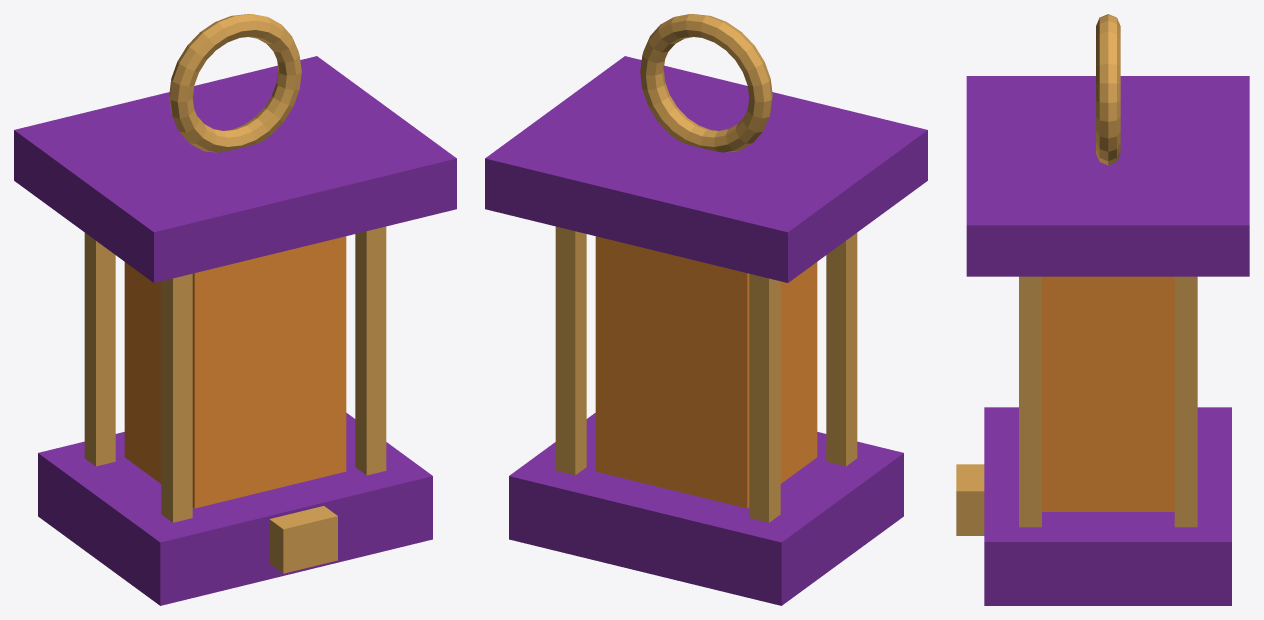
Rendered from amethyst.glb.
3 views of the same model, side by side, from view 1: azimuth 30°, elevation 25°; view 2: azimuth 150°, elevation 25°; view 3: azimuth 270°, elevation 25° (orthographic).
Parts seen in each view (by area): view 1: Canopy, Amber core, Lantern base, Torus, Brass frame.002, Brass frame, Brass frame.001, Front clasp; view 2: Canopy, Amber core, Lantern base, Torus, Brass frame.003, Brass frame.001, Brass frame; view 3: Canopy, Amber core, Lantern base, Brass frame.003, Brass frame.002, Torus, Front clasp.
Boxes of the visible parts, x1,y1,x2,y2 form: Canopy: [14, 56, 456, 282]; Amber core: [124, 236, 346, 508]; Lantern base: [38, 413, 432, 605]; Torus: [169, 14, 301, 152]; Brass frame.002: [355, 226, 386, 475]; Brass frame: [161, 273, 192, 522]; Brass frame.001: [84, 233, 115, 466]; Front clasp: [269, 506, 337, 573]; Canopy: [485, 56, 927, 282]; Amber core: [595, 236, 817, 508]; Lantern base: [509, 413, 903, 605]; Torus: [640, 14, 772, 152]; Brass frame.003: [555, 226, 586, 475]; Brass frame.001: [749, 273, 780, 522]; Brass frame: [826, 233, 857, 466]; Canopy: [966, 76, 1249, 276]; Amber core: [1042, 276, 1174, 511]; Lantern base: [984, 407, 1231, 605]; Brass frame.003: [1174, 276, 1197, 527]; Brass frame.002: [1019, 276, 1041, 527]; Torus: [1096, 14, 1120, 165]; Front clasp: [956, 464, 984, 535].
Bounding box in the file's own units: 1 × 1.62 × 0.83.
